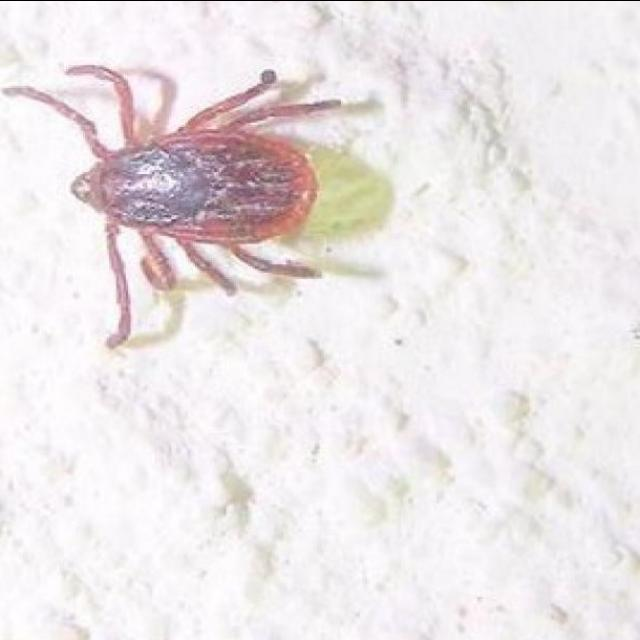Rhipicephalus Sanguineus-F: (4, 62, 341, 348)
